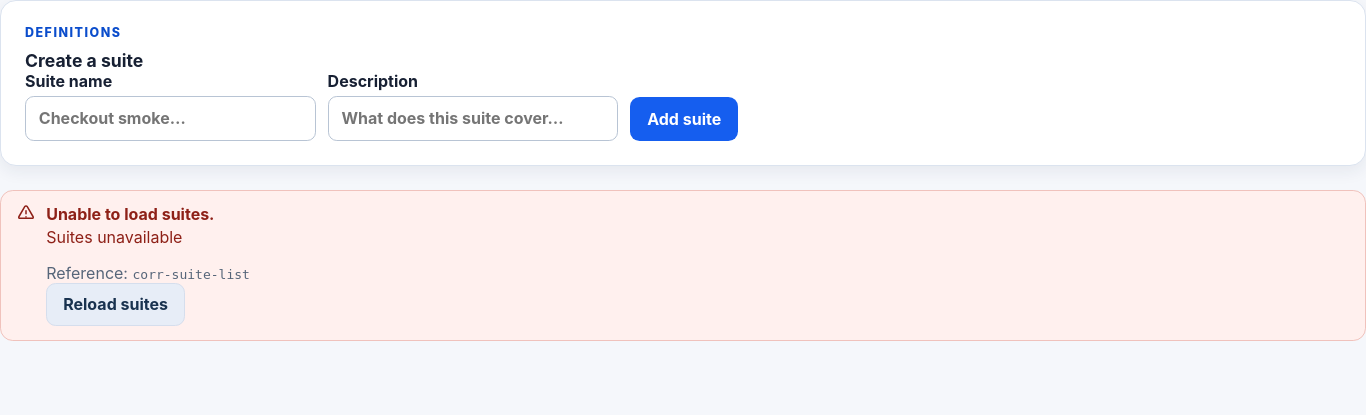
Test case: suite recovery surfaces › refetches a failed suite list with its correlation reference
Expected: the text "corr-suite-list" is shown, left=132, top=266, right=250, bottom=282
Click the button "Reload suites" at point(116, 304), box left=46, top=282, right=185, bottom=326
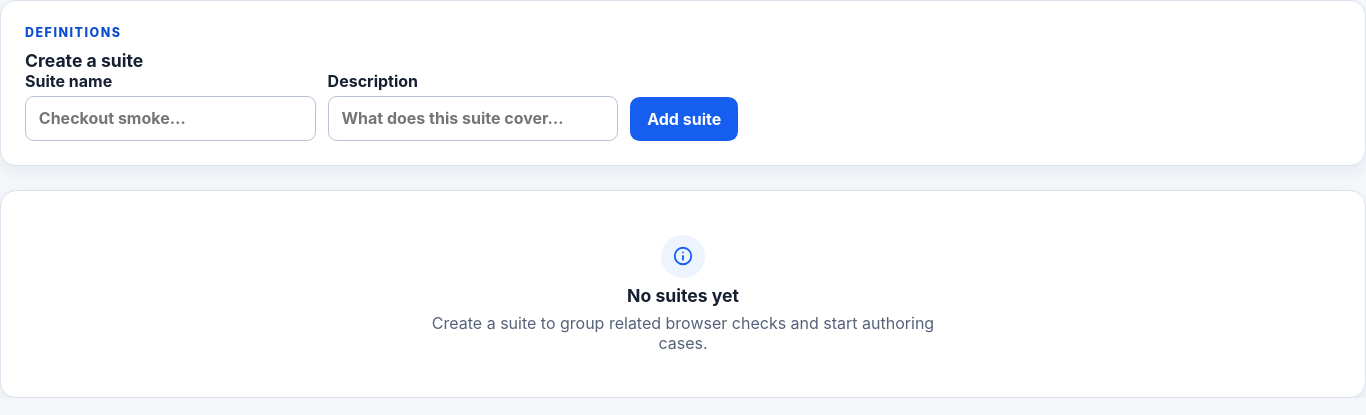
Result: the heading "No suites yet" is shown at left=627, top=285, right=739, bottom=306
